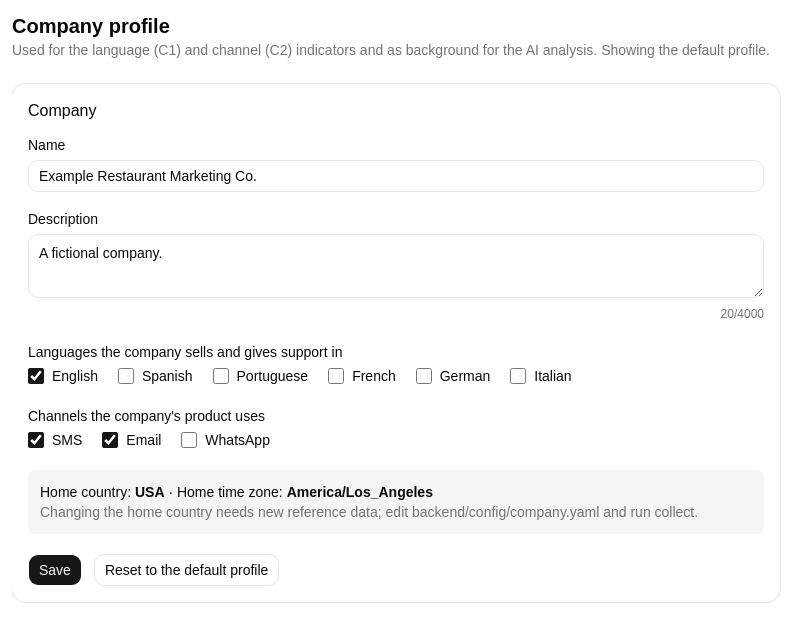
at least one language and one channel must stay ticked
The width and height of the screenshot is (798, 620).
What coordinates should you click on to do the following:
click the checkbox labelled "English"
I would click on:
 (36, 376)
Its box is [28,368,44,384].
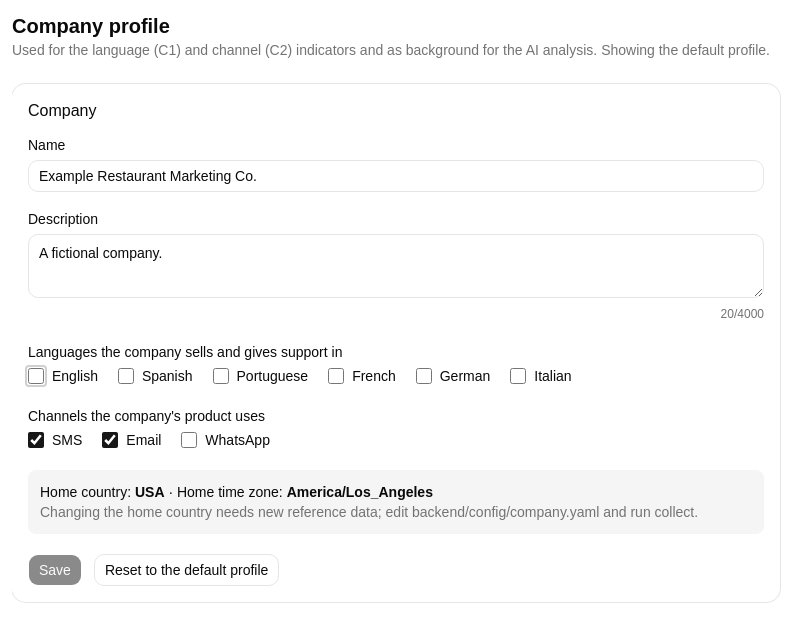
Check: the button "Save" is disabled, box [28,554,82,586]
